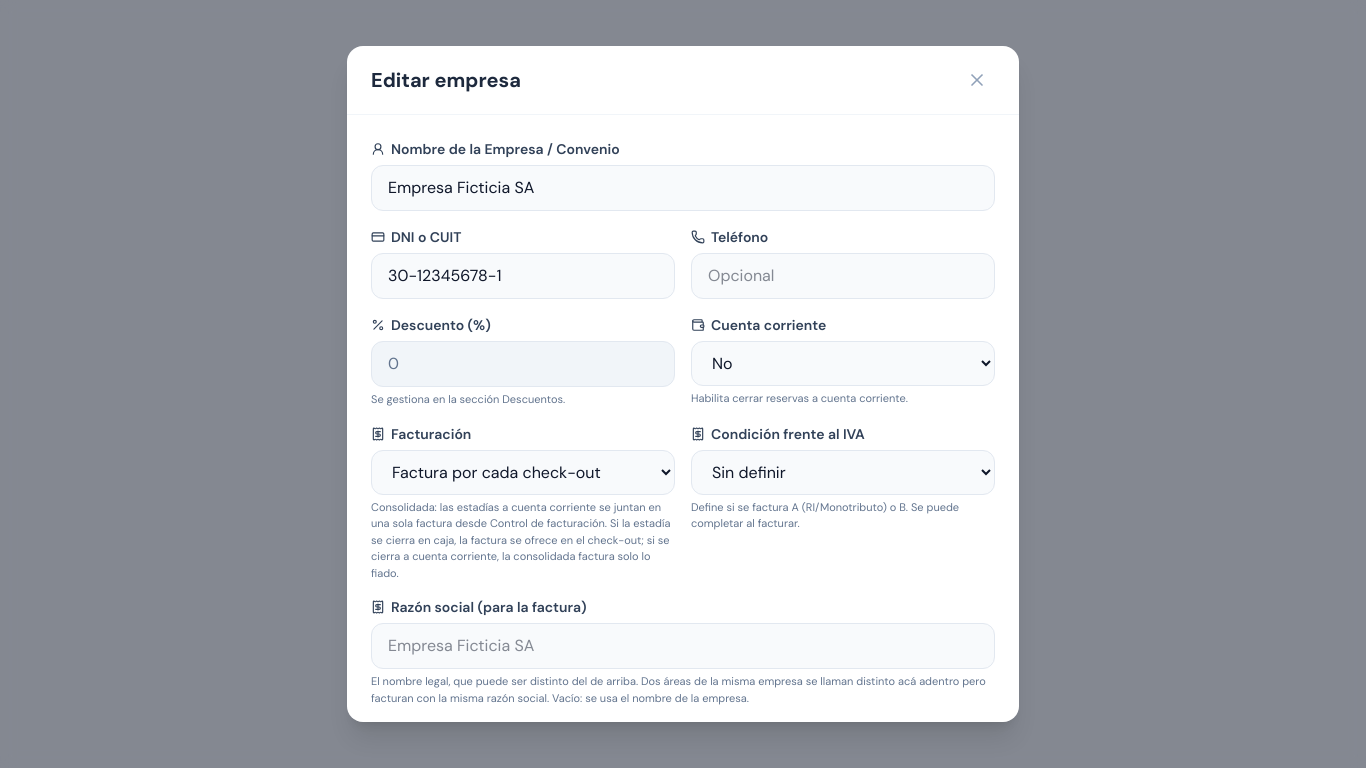
Test: AssociatedClientModal: la consolidada de una empresa pide CUIT › con un CUIT válido sale la nota verde de siempre
The image size is (1366, 768).
Step 1. Select "Sí — habilitada a fiar" in the dropdown labelled "Cuenta corriente" → (843, 364), box [691,341,995,386]
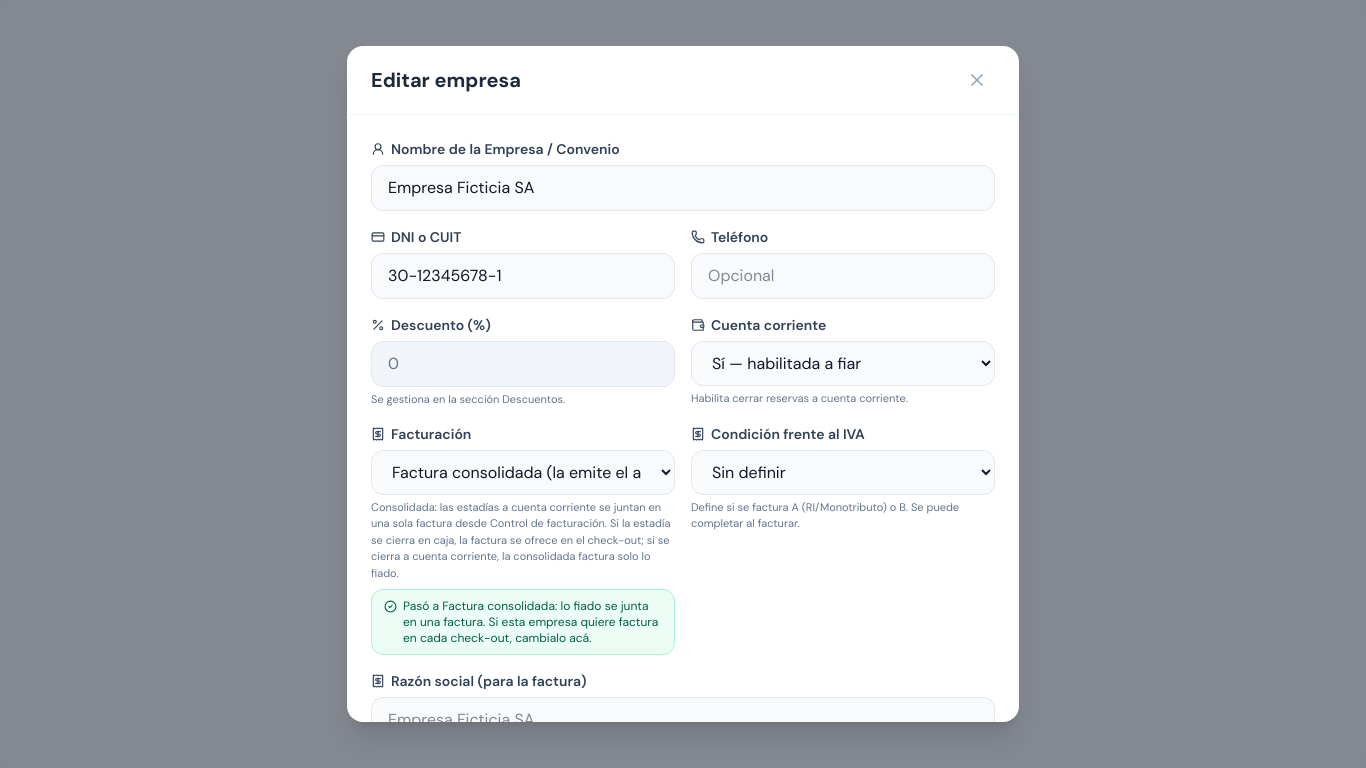
Check: the dropdown labelled "Facturación" shows "Factura consolidada (la emite el admin)", box [371,450,675,495]
